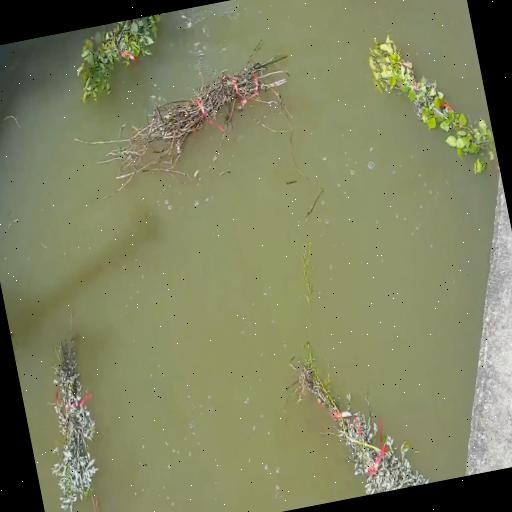twig: (86, 40, 286, 187), (291, 343, 428, 495), (369, 36, 496, 160), (52, 339, 97, 512), (77, 14, 160, 102)
